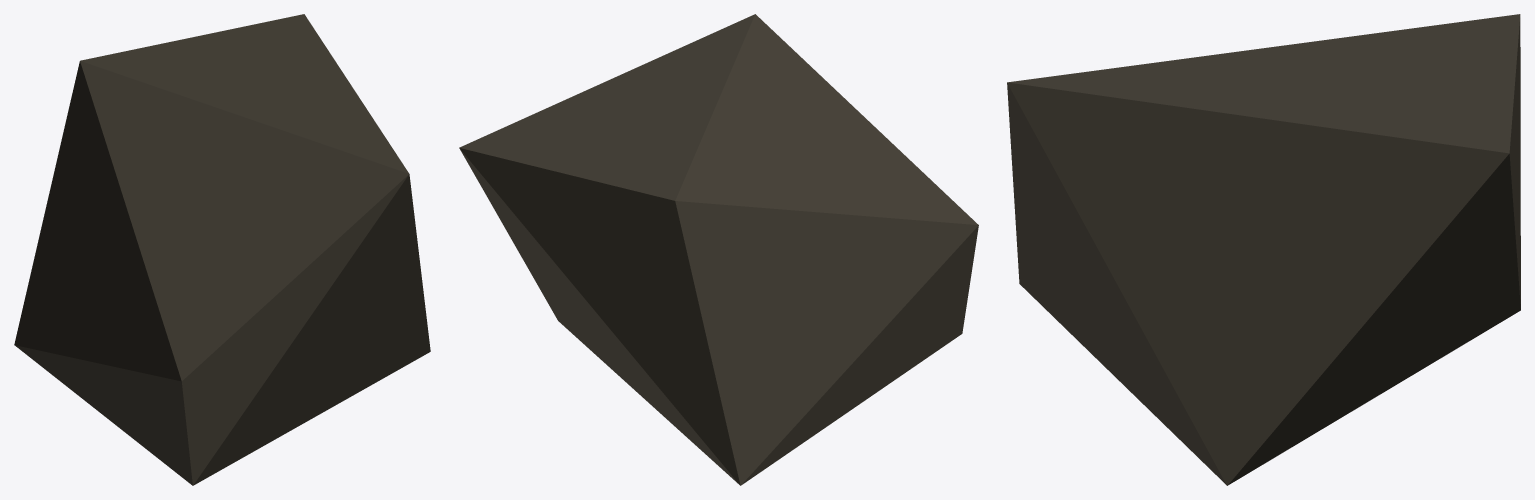
The model's file is Brick_Single_11_LOD.fbx.
The picture shows the model from 3 angles, left to right: view 1: azimuth 30°, elevation 25°; view 2: azimuth 150°, elevation 25°; view 3: azimuth 270°, elevation 25°; orthographic projection. The views are drawn at different scales.
Visible parts, largest first — view 1: Group30451; view 2: Group30451; view 3: Group30451.
Boxes of the visible parts, <box> form: Group30451: <box>14,14,430,485</box>; Group30451: <box>459,14,978,485</box>; Group30451: <box>1007,14,1520,485</box>.
Size of the model in its own units: 0.5468 by 0.4292 by 0.5804.
